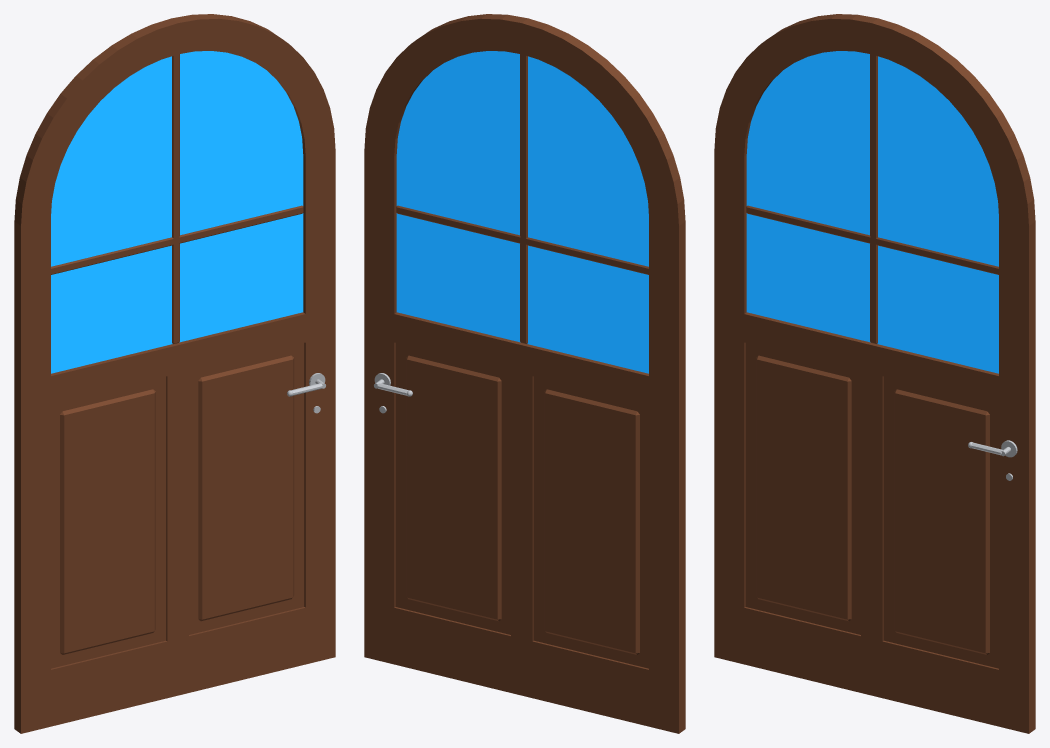
File: porta_arco_madeira.glb
3 renders of one model, left to right at view 1: azimuth 30°, elevation 25°; view 2: azimuth 150°, elevation 25°; view 3: azimuth 330°, elevation 25°, orthographic.
Parts seen in each view (by area): view 1: porta_arco_madeira; view 2: porta_arco_madeira; view 3: porta_arco_madeira.
Boxes of the visible parts, left/top/right/bottom form: porta_arco_madeira: left=14, top=14, right=335, bottom=733; porta_arco_madeira: left=364, top=14, right=685, bottom=733; porta_arco_madeira: left=714, top=14, right=1035, bottom=733.
Bounding box in the file's own units: 1.16 × 2.37 × 0.143.
